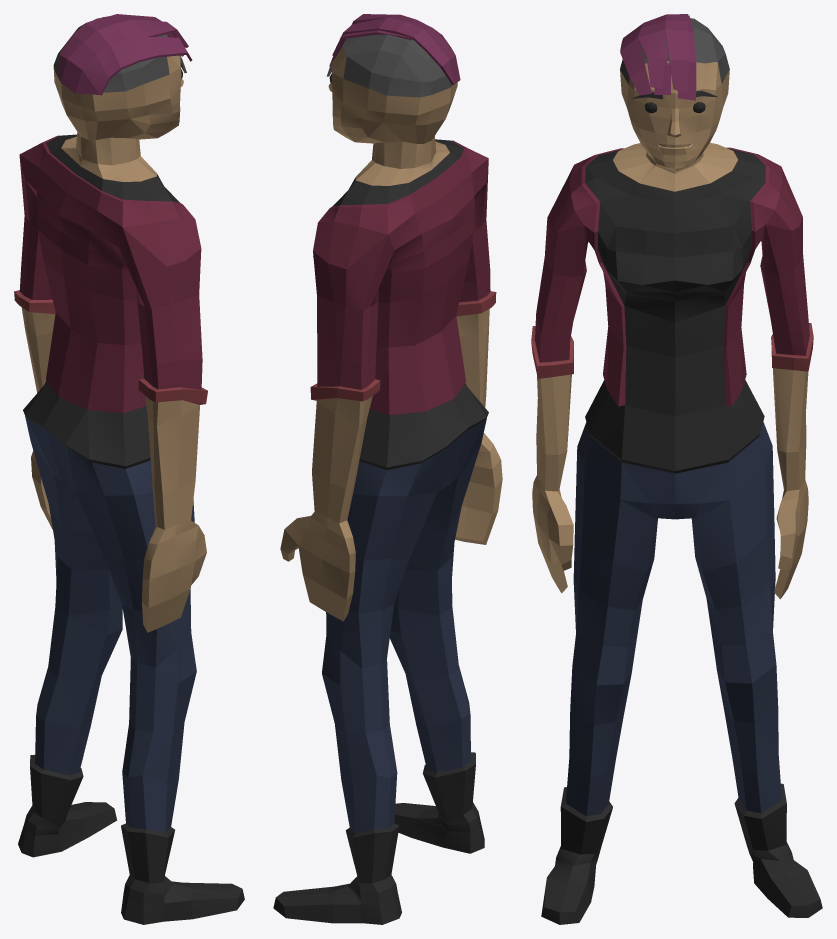
File: persoon_d.glb
The picture shows the model from 3 angles, left to right: view 1: azimuth 30°, elevation 25°; view 2: azimuth 150°, elevation 25°; view 3: azimuth 270°, elevation 25°; orthographic projection.
Bounding box in the file's own units: 0.3 × 1.7 × 0.5176.
